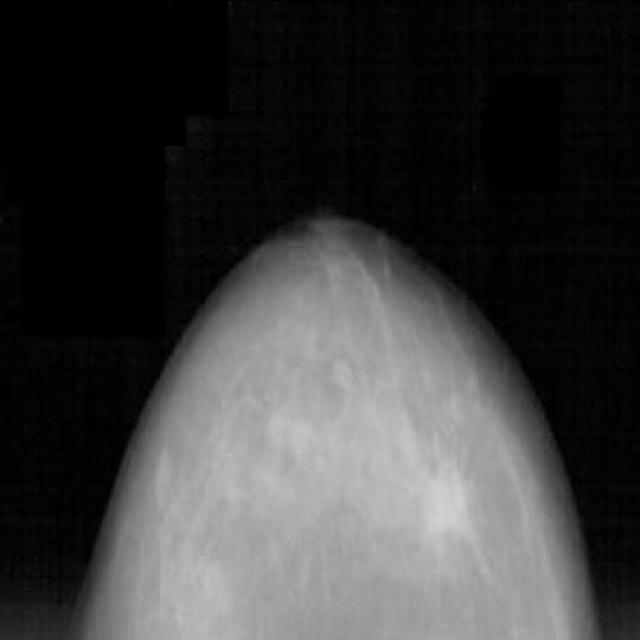tumor: (398, 436, 481, 547)
